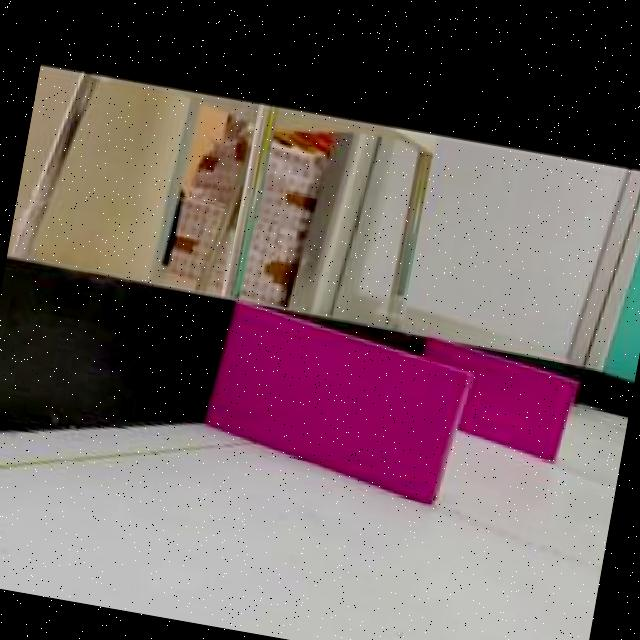xparking: (204, 299, 470, 503), (455, 352, 574, 461)
